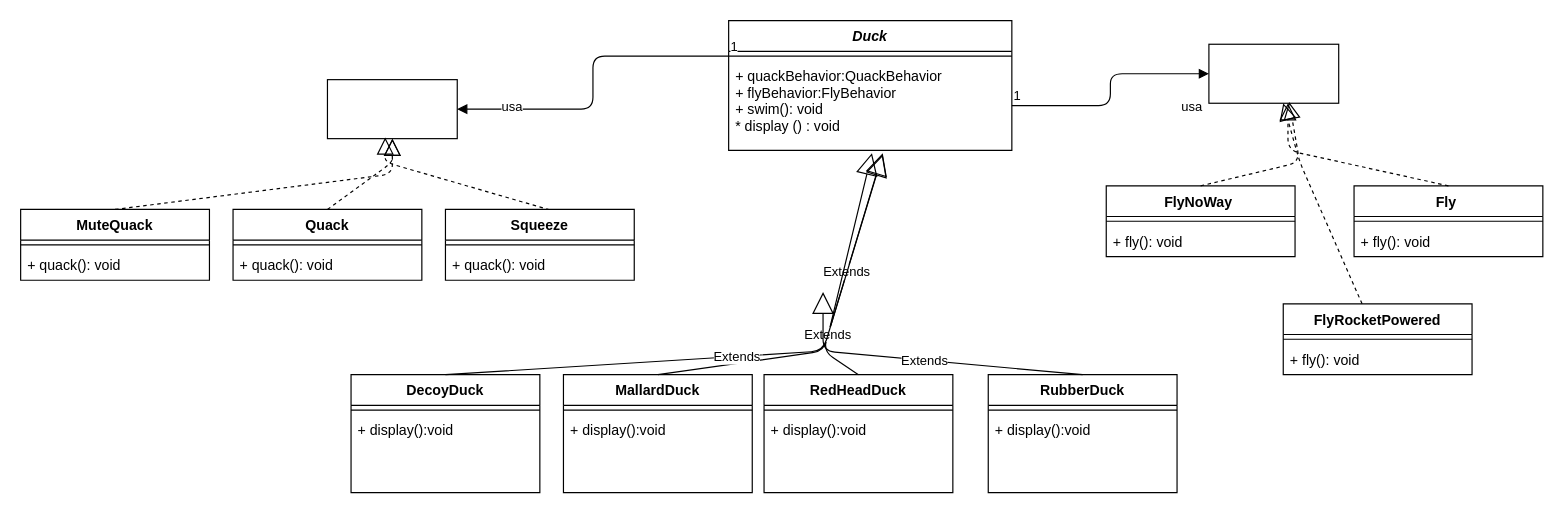
The diagram is 1563 pixels wide and 517 high, and some of its shapes have lost their labels. Here are the shapes that lost their labels. From the top down, the centre of each, then its label:
At point (1273, 73): "«interface» Fly Behavior + fly(): void".
At point (391, 108): "«interface» QuackBehavior + quack(): void".
